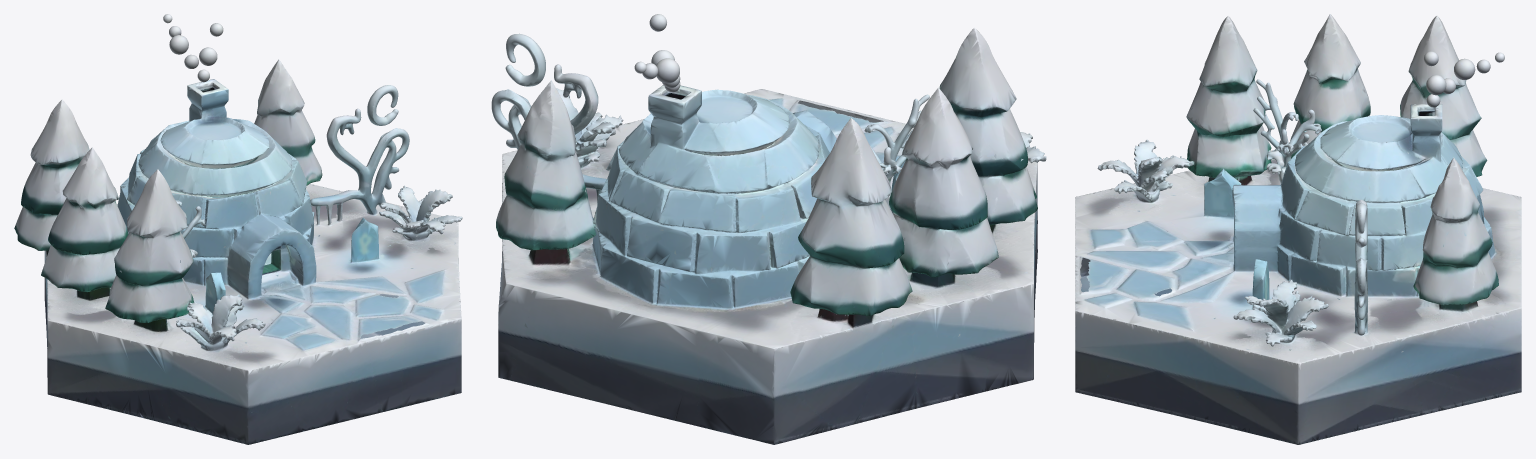
File: snowtile_lv4.glb
The picture shows the model from 3 angles, left to right: view 1: azimuth 30°, elevation 25°; view 2: azimuth 150°, elevation 25°; view 3: azimuth 270°, elevation 25°; orthographic projection. The views are drawn at different scales.
Size of the model in its own units: 1.9 by 1.2 by 1.63.
Materials: 1 (1 with a texture image).
